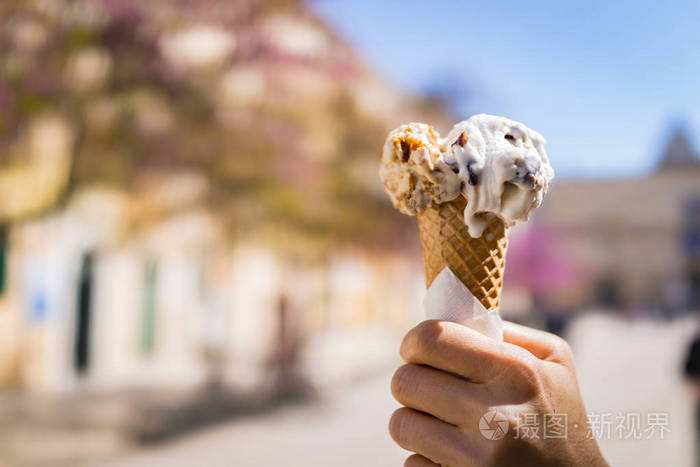no-phone: (375, 107, 606, 464)
